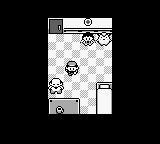main: (65, 62, 79, 75)
no-caminable: (0, 18, 159, 143), (64, 18, 112, 33), (96, 83, 112, 114), (49, 99, 80, 114)
npc: (49, 79, 64, 93), (97, 33, 111, 45), (81, 33, 94, 45)
puerta: (49, 19, 62, 33)
